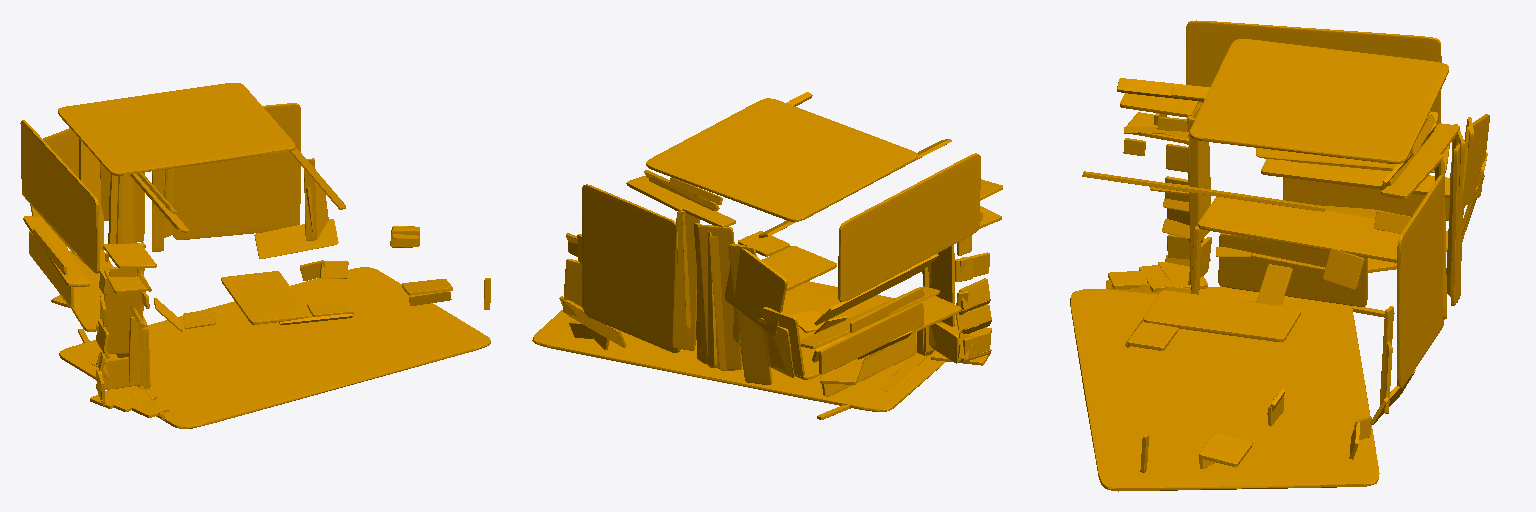
--- Facts derived from the render (not from the file) ---
The picture shows the robot from 3 angles, left to right: view 1: azimuth 30°, elevation 25°; view 2: azimuth 150°, elevation 25°; view 3: azimuth 270°, elevation 25°; orthographic projection.
Robot: scene — 1 links, 0 joints (none); root link scene_link; default pose: every joint at zero.
Visible links, largest first — view 1: scene_link; view 2: scene_link; view 3: scene_link.
Boxes of the visible links, x1,y1,x2,y2 form: scene_link: (20,83,490,428); scene_link: (532,92,1002,419); scene_link: (1070,20,1489,491).
Size in the robot's own frame: 5.14 by 4 by 2.75 metres.
Meshes: 88 distinct files referenced, 88 mesh visuals loaded (88 OBJ).

The robot description file, URDF, robot "scene":
<?xml version='1.0' encoding='utf-8'?>
<robot name="scene"><link name="scene_link"><visual><origin xyz="0.000000 0.000000 0.000000" rpy="0.000000 -0.000000 0.000000" /><geometry><mesh filename="part_000.obj" /></geometry></visual><collision><origin xyz="0.000000 0.000000 0.000000" rpy="0.000000 -0.000000 0.000000" /><geometry><mesh filename="part_000.obj" /></geometry></collision><visual><origin xyz="0.000000 0.000000 0.000000" rpy="0.000000 -0.000000 0.000000" /><geometry><mesh filename="part_001.obj" /></geometry></visual><collision><origin xyz="0.000000 0.000000 0.000000" rpy="0.000000 -0.000000 0.000000" /><geometry><mesh filename="part_001.obj" /></geometry></collision><visual><origin xyz="0.000000 0.000000 0.000000" rpy="0.000000 -0.000000 0.000000" /><geometry><mesh filename="part_002.obj" /></geometry></visual><collision><origin xyz="0.000000 0.000000 0.000000" rpy="0.000000 -0.000000 0.000000" /><geometry><mesh filename="part_002.obj" /></geometry></collision><visual><origin xyz="0.000000 0.000000 0.000000" rpy="0.000000 -0.000000 0.000000" /><geometry><mesh filename="part_003.obj" /></geometry></visual><collision><origin xyz="0.000000 0.000000 0.000000" rpy="0.000000 -0.000000 0.000000" /><geometry><mesh filename="part_003.obj" /></geometry></collision><visual><origin xyz="0.000000 0.000000 0.000000" rpy="0.000000 -0.000000 0.000000" /><geometry><mesh filename="part_004.obj" /></geometry></visual><collision><origin xyz="0.000000 0.000000 0.000000" rpy="0.000000 -0.000000 0.000000" /><geometry><mesh filename="part_004.obj" /></geometry></collision><visual><origin xyz="0.000000 0.000000 0.000000" rpy="0.000000 -0.000000 0.000000" /><geometry><mesh filename="part_005.obj" /></geometry></visual><collision><origin xyz="0.000000 0.000000 0.000000" rpy="0.000000 -0.000000 0.000000" /><geometry><mesh filename="part_005.obj" /></geometry></collision><visual><origin xyz="0.000000 0.000000 0.000000" rpy="0.000000 -0.000000 0.000000" /><geometry><mesh filename="part_006.obj" /></geometry></visual><collision><origin xyz="0.000000 0.000000 0.000000" rpy="0.000000 -0.000000 0.000000" /><geometry><mesh filename="part_006.obj" /></geometry></collision><visual><origin xyz="0.000000 0.000000 0.000000" rpy="0.000000 -0.000000 0.000000" /><geometry><mesh filename="part_007.obj" /></geometry></visual><collision><origin xyz="0.000000 0.000000 0.000000" rpy="0.000000 -0.000000 0.000000" /><geometry><mesh filename="part_007.obj" /></geometry></collision><visual><origin xyz="0.000000 0.000000 0.000000" rpy="0.000000 -0.000000 0.000000" /><geometry><mesh filename="part_008.obj" /></geometry></visual><collision><origin xyz="0.000000 0.000000 0.000000" rpy="0.000000 -0.000000 0.000000" /><geometry><mesh filename="part_008.obj" /></geometry></collision><visual><origin xyz="0.000000 0.000000 0.000000" rpy="0.000000 -0.000000 0.000000" /><geometry><mesh filename="part_009.obj" /></geometry></visual><collision><origin xyz="0.000000 0.000000 0.000000" rpy="0.000000 -0.000000 0.000000" /><geometry><mesh filename="part_009.obj" /></geometry></collision><visual><origin xyz="0.000000 0.000000 0.000000" rpy="0.000000 -0.000000 0.000000" /><geometry><mesh filename="part_010.obj" /></geometry></visual><collision><origin xyz="0.000000 0.000000 0.000000" rpy="0.000000 -0.000000 0.000000" /><geometry><mesh filename="part_010.obj" /></geometry></collision><visual><origin xyz="0.000000 0.000000 0.000000" rpy="0.000000 -0.000000 0.000000" /><geometry><mesh filename="part_011.obj" /></geometry></visual><collision><origin xyz="0.000000 0.000000 0.000000" rpy="0.000000 -0.000000 0.000000" /><geometry><mesh filename="part_011.obj" /></geometry></collision><visual><origin xyz="0.000000 0.000000 0.000000" rpy="0.000000 -0.000000 0.000000" /><geometry><mesh filename="part_012.obj" /></geometry></visual><collision><origin xyz="0.000000 0.000000 0.000000" rpy="0.000000 -0.000000 0.000000" /><geometry><mesh filename="part_012.obj" /></geometry></collision><visual><origin xyz="0.000000 0.000000 0.000000" rpy="0.000000 -0.000000 0.000000" /><geometry><mesh filename="part_013.obj" /></geometry></visual><collision><origin xyz="0.000000 0.000000 0.000000" rpy="0.000000 -0.000000 0.000000" /><geometry><mesh filename="part_013.obj" /></geometry></collision><visual><origin xyz="0.000000 0.000000 0.000000" rpy="0.000000 -0.000000 0.000000" /><geometry><mesh filename="part_014.obj" /></geometry></visual><collision><origin xyz="0.000000 0.000000 0.000000" rpy="0.000000 -0.000000 0.000000" /><geometry><mesh filename="part_014.obj" /></geometry></collision><visual><origin xyz="0.000000 0.000000 0.000000" rpy="0.000000 -0.000000 0.000000" /><geometry><mesh filename="part_015.obj" /></geometry></visual><collision><origin xyz="0.000000 0.000000 0.000000" rpy="0.000000 -0.000000 0.000000" /><geometry><mesh filename="part_015.obj" /></geometry></collision><visual><origin xyz="0.000000 0.000000 0.000000" rpy="0.000000 -0.000000 0.000000" /><geometry><mesh filename="part_016.obj" /></geometry></visual><collision><origin xyz="0.000000 0.000000 0.000000" rpy="0.000000 -0.000000 0.000000" /><geometry><mesh filename="part_016.obj" /></geometry></collision><visual><origin xyz="0.000000 0.000000 0.000000" rpy="0.000000 -0.000000 0.000000" /><geometry><mesh filename="part_017.obj" /></geometry></visual><collision><origin xyz="0.000000 0.000000 0.000000" rpy="0.000000 -0.000000 0.000000" /><geometry><mesh filename="part_017.obj" /></geometry></collision><visual><origin xyz="0.000000 0.000000 0.000000" rpy="0.000000 -0.000000 0.000000" /><geometry><mesh filename="part_018.obj" /></geometry></visual><collision><origin xyz="0.000000 0.000000 0.000000" rpy="0.000000 -0.000000 0.000000" /><geometry><mesh filename="part_018.obj" /></geometry></collision><visual><origin xyz="0.000000 0.000000 0.000000" rpy="0.000000 -0.000000 0.000000" /><geometry><mesh filename="part_019.obj" /></geometry></visual><collision><origin xyz="0.000000 0.000000 0.000000" rpy="0.000000 -0.000000 0.000000" /><geometry><mesh filename="part_019.obj" /></geometry></collision><visual><origin xyz="0.000000 0.000000 0.000000" rpy="0.000000 -0.000000 0.000000" /><geometry><mesh filename="part_020.obj" /></geometry></visual><collision><origin xyz="0.000000 0.000000 0.000000" rpy="0.000000 -0.000000 0.000000" /><geometry><mesh filename="part_020.obj" /></geometry></collision><visual><origin xyz="0.000000 0.000000 0.000000" rpy="0.000000 -0.000000 0.000000" /><geometry><mesh filename="part_021.obj" /></geometry></visual><collision><origin xyz="0.000000 0.000000 0.000000" rpy="0.000000 -0.000000 0.000000" /><geometry><mesh filename="part_021.obj" /></geometry></collision><visual><origin xyz="0.000000 0.000000 0.000000" rpy="0.000000 -0.000000 0.000000" /><geometry><mesh filename="part_022.obj" /></geometry></visual><collision><origin xyz="0.000000 0.000000 0.000000" rpy="0.000000 -0.000000 0.000000" /><geometry><mesh filename="part_022.obj" /></geometry></collision><visual><origin xyz="0.000000 0.000000 0.000000" rpy="0.000000 -0.000000 0.000000" /><geometry><mesh filename="part_023.obj" /></geometry></visual><collision><origin xyz="0.000000 0.000000 0.000000" rpy="0.000000 -0.000000 0.000000" /><geometry><mesh filename="part_023.obj" /></geometry></collision><visual><origin xyz="0.000000 0.000000 0.000000" rpy="0.000000 -0.000000 0.000000" /><geometry><mesh filename="part_024.obj" /></geometry></visual><collision><origin xyz="0.000000 0.000000 0.000000" rpy="0.000000 -0.000000 0.000000" /><geometry><mesh filename="part_024.obj" /></geometry></collision><visual><origin xyz="0.000000 0.000000 0.000000" rpy="0.000000 -0.000000 0.000000" /><geometry><mesh filename="part_025.obj" /></geometry></visual><collision><origin xyz="0.000000 0.000000 0.000000" rpy="0.000000 -0.000000 0.000000" /><geometry><mesh filename="part_025.obj" /></geometry></collision><visual><origin xyz="0.000000 0.000000 0.000000" rpy="0.000000 -0.000000 0.000000" /><geometry><mesh filename="part_026.obj" /></geometry></visual><collision><origin xyz="0.000000 0.000000 0.000000" rpy="0.000000 -0.000000 0.000000" /><geometry><mesh filename="part_026.obj" /></geometry></collision><visual><origin xyz="0.000000 0.000000 0.000000" rpy="0.000000 -0.000000 0.000000" /><geometry><mesh filename="part_027.obj" /></geometry></visual><collision><origin xyz="0.000000 0.000000 0.000000" rpy="0.000000 -0.000000 0.000000" /><geometry><mesh filename="part_027.obj" /></geometry></collision><visual><origin xyz="0.000000 0.000000 0.000000" rpy="0.000000 -0.000000 0.000000" /><geometry><mesh filename="part_028.obj" /></geometry></visual><collision><origin xyz="0.000000 0.000000 0.000000" rpy="0.000000 -0.000000 0.000000" /><geometry><mesh filename="part_028.obj" /></geometry></collision><visual><origin xyz="0.000000 0.000000 0.000000" rpy="0.000000 -0.000000 0.000000" /><geometry><mesh filename="part_029.obj" /></geometry></visual><collision><origin xyz="0.000000 0.000000 0.000000" rpy="0.000000 -0.000000 0.000000" /><geometry><mesh filename="part_029.obj" /></geometry></collision><visual><origin xyz="0.000000 0.000000 0.000000" rpy="0.000000 -0.000000 0.000000" /><geometry><mesh filename="part_030.obj" /></geometry></visual><collision><origin xyz="0.000000 0.000000 0.000000" rpy="0.000000 -0.000000 0.000000" /><geometry><mesh filename="part_030.obj" /></geometry></collision><visual><origin xyz="0.000000 0.000000 0.000000" rpy="0.000000 -0.000000 0.000000" /><geometry><mesh filename="part_031.obj" /></geometry></visual><collision><origin xyz="0.000000 0.000000 0.000000" rpy="0.000000 -0.000000 0.000000" /><geometry><mesh filename="part_031.obj" /></geometry></collision><visual><origin xyz="0.000000 0.000000 0.000000" rpy="0.000000 -0.000000 0.000000" /><geometry><mesh filename="part_032.obj" /></geometry></visual><collision><origin xyz="0.000000 0.000000 0.000000" rpy="0.000000 -0.000000 0.000000" /><geometry><mesh filename="part_032.obj" /></geometry></collision><visual><origin xyz="0.000000 0.000000 0.000000" rpy="0.000000 -0.000000 0.000000" /><geometry><mesh filename="part_033.obj" /></geometry></visual><collision><origin xyz="0.000000 0.000000 0.000000" rpy="0.000000 -0.000000 0.000000" /><geometry><mesh filename="part_033.obj" /></geometry></collision><visual><origin xyz="0.000000 0.000000 0.000000" rpy="0.000000 -0.000000 0.000000" /><geometry><mesh filename="part_034.obj" /></geometry></visual><collision><origin xyz="0.000000 0.000000 0.000000" rpy="0.000000 -0.000000 0.000000" /><geometry><mesh filename="part_034.obj" /></geometry></collision><visual><origin xyz="0.000000 0.000000 0.000000" rpy="0.000000 -0.000000 0.000000" /><geometry><mesh filename="part_035.obj" /></geometry></visual><collision><origin xyz="0.000000 0.000000 0.000000" rpy="0.000000 -0.000000 0.000000" /><geometry><mesh filename="part_035.obj" /></geometry></collision><visual><origin xyz="0.000000 0.000000 0.000000" rpy="0.000000 -0.000000 0.000000" /><geometry><mesh filename="part_036.obj" /></geometry></visual><collision><origin xyz="0.000000 0.000000 0.000000" rpy="0.000000 -0.000000 0.000000" /><geometry><mesh filename="part_036.obj" /></geometry></collision><visual><origin xyz="0.000000 0.000000 0.000000" rpy="0.000000 -0.000000 0.000000" /><geometry><mesh filename="part_037.obj" /></geometry></visual><collision><origin xyz="0.000000 0.000000 0.000000" rpy="0.000000 -0.000000 0.000000" /><geometry><mesh filename="part_037.obj" /></geometry></collision><visual><origin xyz="0.000000 0.000000 0.000000" rpy="0.000000 -0.000000 0.000000" /><geometry><mesh filename="part_038.obj" /></geometry></visual><collision><origin xyz="0.000000 0.000000 0.000000" rpy="0.000000 -0.000000 0.000000" /><geometry><mesh filename="part_038.obj" /></geometry></collision><visual><origin xyz="0.000000 0.000000 0.000000" rpy="0.000000 -0.000000 0.000000" /><geometry><mesh filename="part_039.obj" /></geometry></visual><collision><origin xyz="0.000000 0.000000 0.000000" rpy="0.000000 -0.000000 0.000000" /><geometry><mesh filename="part_039.obj" /></geometry></collision><visual><origin xyz="0.000000 0.000000 0.000000" rpy="0.000000 -0.000000 0.000000" /><geometry><mesh filename="part_040.obj" /></geometry></visual><collision><origin xyz="0.000000 0.000000 0.000000" rpy="0.000000 -0.000000 0.000000" /><geometry><mesh filename="part_040.obj" /></geometry></collision><visual><origin xyz="0.000000 0.000000 0.000000" rpy="0.000000 -0.000000 0.000000" /><geometry><mesh filename="part_041.obj" /></geometry></visual><collision><origin xyz="0.000000 0.000000 0.000000" rpy="0.000000 -0.000000 0.000000" /><geometry><mesh filename="part_041.obj" /></geometry></collision><visual><origin xyz="0.000000 0.000000 0.000000" rpy="0.000000 -0.000000 0.000000" /><geometry><mesh filename="part_042.obj" /></geometry></visual><collision><origin xyz="0.000000 0.000000 0.000000" rpy="0.000000 -0.000000 0.000000" /><geometry><mesh filename="part_042.obj" /></geometry></collision><visual><origin xyz="0.000000 0.000000 0.000000" rpy="0.000000 -0.000000 0.000000" /><geometry><mesh filename="part_043.obj" /></geometry></visual><collision><origin xyz="0.000000 0.000000 0.000000" rpy="0.000000 -0.000000 0.000000" /><geometry><mesh filename="part_043.obj" /></geometry></collision><visual><origin xyz="0.000000 0.000000 0.000000" rpy="0.000000 -0.000000 0.000000" /><geometry><mesh filename="part_044.obj" /></geometry></visual><collision><origin xyz="0.000000 0.000000 0.000000" rpy="0.000000 -0.000000 0.000000" /><geometry><mesh filename="part_044.obj" /></geometry></collision><visual><origin xyz="0.000000 0.000000 0.000000" rpy="0.000000 -0.000000 0.000000" /><geometry><mesh filename="part_045.obj" /></geometry></visual><collision><origin xyz="0.000000 0.000000 0.000000" rpy="0.000000 -0.000000 0.000000" /><geometry><mesh filename="part_045.obj" /></geometry></collision><visual><origin xyz="0.000000 0.000000 0.000000" rpy="0.000000 -0.000000 0.000000" /><geometry><mesh filename="part_046.obj" /></geometry></visual><collision><origin xyz="0.000000 0.000000 0.000000" rpy="0.000000 -0.000000 0.000000" /><geometry><mesh filename="part_046.obj" /></geometry></collision><visual><origin xyz="0.000000 0.000000 0.000000" rpy="0.000000 -0.000000 0.000000" /><geometry><mesh filename="part_047.obj" /></geometry></visual><collision><origin xyz="0.000000 0.000000 0.000000" rpy="0.000000 -0.000000 0.000000" /><geometry><mesh filename="part_047.obj" /></geometry></collision><visual><origin xyz="0.000000 0.000000 0.000000" rpy="0.000000 -0.000000 0.000000" /><geometry><mesh filename="part_048.obj" /></geometry></visual><collision><origin xyz="0.000000 0.000000 0.000000" rpy="0.000000 -0.000000 0.000000" /><geometry><mesh filename="part_048.obj" /></geometry></collision><visual><origin xyz="0.000000 0.000000 0.000000" rpy="0.000000 -0.000000 0.000000" /><geometry><mesh filename="part_049.obj" /></geometry></visual><collision><origin xyz="0.000000 0.000000 0.000000" rpy="0.000000 -0.000000 0.000000" /><geometry><mesh filename="part_049.obj" /></geometry></collision><visual><origin xyz="0.000000 0.000000 0.000000" rpy="0.000000 -0.000000 0.000000" /><geometry><mesh filename="part_050.obj" /></geometry></visual><collision><origin xyz="0.000000 0.000000 0.000000" rpy="0.000000 -0.000000 0.000000" /><geometry><mesh filename="part_050.obj" /></geometry></collision><visual><origin xyz="0.000000 0.000000 0.000000" rpy="0.000000 -0.000000 0.000000" /><geometry><mesh filename="part_051.obj" /></geometry></visual><collision><origin xyz="0.000000 0.000000 0.000000" rpy="0.000000 -0.000000 0.000000" /><geometry><mesh filename="part_051.obj" /></geometry></collision><visual><origin xyz="0.000000 0.000000 0.000000" rpy="0.000000 -0.000000 0.000000" /><geometry><mesh filename="part_052.obj" /></geometry></visual><collision><origin xyz="0.000000 0.000000 0.000000" rpy="0.000000 -0.000000 0.000000" /><geometry><mesh filename="part_052.obj" /></geometry></collision><visual><origin xyz="0.000000 0.000000 0.000000" rpy="0.000000 -0.000000 0.000000" /><geometry><mesh filename="part_053.obj" /></geometry></visual><collision><origin xyz="0.000000 0.000000 0.000000" rpy="0.000000 -0.000000 0.000000" /><geometry><mesh filename="part_053.obj" /></geometry></collision><visual><origin xyz="0.000000 0.000000 0.000000" rpy="0.000000 -0.000000 0.000000" /><geometry><mesh filename="part_054.obj" /></geometry></visual><collision><origin xyz="0.000000 0.000000 0.000000" rpy="0.000000 -0.000000 0.000000" /><geometry><mesh filename="part_054.obj" /></geometry></collision><visual><origin xyz="0.000000 0.000000 0.000000" rpy="0.000000 -0.000000 0.000000" /><geometry><mesh filename="part_055.obj" /></geometry></visual><collision><origin xyz="0.000000 0.000000 0.000000" rpy="0.000000 -0.000000 0.000000" /><geometry><mesh filename="part_055.obj" /></geometry></collision><visual><origin xyz="0.000000 0.000000 0.000000" rpy="0.000000 -0.000000 0.000000" /><geometry><mesh filename="part_056.obj" /></geometry></visual><collision><origin xyz="0.000000 0.000000 0.000000" rpy="0.000000 -0.000000 0.000000" /><geometry><mesh filename="part_056.obj" /></geometry></collision><visual><origin xyz="0.000000 0.000000 0.000000" rpy="0.000000 -0.000000 0.000000" /><geometry><mesh filename="part_057.obj" /></geometry></visual><collision><origin xyz="0.000000 0.000000 0.000000" rpy="0.000000 -0.000000 0.000000" /><geometry><mesh filename="part_057.obj" /></geometry></collision><visual><origin xyz="0.000000 0.000000 0.000000" rpy="0.000000 -0.000000 0.000000" /><geometry><mesh filename="part_058.obj" /></geometry></visual><collision><origin xyz="0.000000 0.000000 0.000000" rpy="0.000000 -0.000000 0.000000" /><geometry><mesh filename="part_058.obj" /></geometry></collision><visual><origin xyz="0.000000 0.000000 0.000000" rpy="0.000000 -0.000000 0.000000" /><geometry><mesh filename="part_059.obj" /></geometry></visual><collision><origin xyz="0.000000 0.000000 0.000000" rpy="0.000000 -0.000000 0.000000" /><geometry><mesh filename="part_059.obj" /></geometry></collision><visual><origin xyz="0.000000 0.000000 0.000000" rpy="0.000000 -0.000000 0.000000" /><geometry><mesh filename="part_060.obj" /></geometry></visual><collision><origin xyz="0.000000 0.000000 0.000000" rpy="0.000000 -0.000000 0.000000" /><geometry><mesh filename="part_060.obj" /></geometry></collision><visual><origin xyz="0.000000 0.000000 0.000000" rpy="0.000000 -0.000000 0.000000" /><geometry><mesh filename="part_061.obj" /></geometry></visual><collision><origin xyz="0.000000 0.000000 0.000000" rpy="0.000000 -0.000000 0.000000" /><geometry><mesh filename="part_061.obj" /></geometry></collision><visual><origin xyz="0.000000 0.000000 0.000000" rpy="0.000000 -0.000000 0.000000" /><geometry><mesh filename="part_062.obj" /></geometry></visual><collision><origin xyz="0.000000 0.000000 0.000000" rpy="0.000000 -0.000000 0.000000" /><geometry><mesh filename="part_062.obj" /></geometry></collision><visual><origin xyz="0.000000 0.000000 0.000000" rpy="0.000000 -0.000000 0.000000" /><geometry><mesh filename="part_063.obj" /></geometry></visual><collision><origin xyz="0.000000 0.000000 0.000000" rpy="0.000000 -0.000000 0.000000" /><geometry><mesh filename="part_063.obj" /></geometry></collision><visual><origin xyz="0.000000 0.000000 0.000000" rpy="0.000000 -0.000000 0.000000" /><geometry><mesh filename="part_064.obj" /></geometry></visual><collision><origin xyz="0.000000 0.000000 0.000000" rpy="0.000000 -0.000000 0.000000" /><geometry><mesh filename="part_064.obj" /></geometry></collision><visual><origin xyz="0.000000 0.000000 0.000000" rpy="0.000000 -0.000000 0.000000" /><geometry><mesh filename="part_065.obj" /></geometry></visual><collision><origin xyz="0.000000 0.000000 0.000000" rpy="0.000000 -0.000000 0.000000" /><geometry><mesh filename="part_065.obj" /></geometry></collision><visual><origin xyz="0.000000 0.000000 0.000000" rpy="0.000000 -0.000000 0.000000" /><geometry><mesh filename="part_066.obj" /></geometry></visual><collision><origin xyz="0.000000 0.000000 0.000000" rpy="0.000000 -0.000000 0.000000" /><geometry><mesh filename="part_066.obj" /></geometry></collision><visual><origin xyz="0.000000 0.000000 0.000000" rpy="0.000000 -0.000000 0.000000" /><geometry><mesh filename="part_067.obj" /></geometry></visual><collision><origin xyz="0.000000 0.000000 0.000000" rpy="0.000000 -0.000000 0.000000" /><geometry><mesh filename="part_067.obj" /></geometry></collision><visual><origin xyz="0.000000 0.000000 0.000000" rpy="0.000000 -0.000000 0.000000" /><geometry><mesh filename="part_068.obj" /></geometry></visual><collision><origin xyz="0.000000 0.000000 0.000000" rpy="0.000000 -0.000000 0.000000" /><geometry><mesh filename="part_068.obj" /></geometry></collision><visual><origin xyz="0.000000 0.000000 0.000000" rpy="0.000000 -0.000000 0.000000" /><geometry><mesh filename="part_069.obj" /></geometry></visual><collision><origin xyz="0.000000 0.000000 0.000000" rpy="0.000000 -0.000000 0.000000" /><geometry><mesh filename="part_069.obj" /></geometry></collision><visual><origin xyz="0.000000 0.000000 0.000000" rpy="0.000000 -0.000000 0.000000" /><geometry><mesh filename="part_070.obj" /></geometry></visual><collision><origin xyz="0.000000 0.000000 0.000000" rpy="0.000000 -0.000000 0.000000" /><geometry><mesh filename="part_070.obj" /></geometry></collision><visual><origin xyz="0.000000 0.000000 0.000000" rpy="0.000000 -0.000000 0.000000" /><geometry><mesh filename="part_071.obj" /></geometry></visual><collision><origin xyz="0.000000 0.000000 0.000000" rpy="0.000000 -0.000000 0.000000" /><geometry><mesh filename="part_071.obj" /></geometry></collision><visual><origin xyz="0.000000 0.000000 0.000000" rpy="0.000000 -0.000000 0.000000" /><geometry><mesh filename="part_072.obj" /></geometry></visual><collision><origin xyz="0.000000 0.000000 0.000000" rpy="0.000000 -0.000000 0.000000" /><geometry><mesh filename="part_072.obj" /></geometry></collision><visual><origin xyz="0.000000 0.000000 0.000000" rpy="0.000000 -0.000000 0.000000" /><geometry><mesh filename="part_073.obj" /></geometry></visual><collision><origin xyz="0.000000 0.000000 0.000000" rpy="0.000000 -0.000000 0.000000" /><geometry><mesh filename="part_073.obj" /></geometry></collision><visual><origin xyz="0.000000 0.000000 0.000000" rpy="0.000000 -0.000000 0.000000" /><geometry><mesh filename="part_074.obj" /></geometry></visual><collision><origin xyz="0.000000 0.000000 0.000000" rpy="0.000000 -0.000000 0.000000" /><geometry><mesh filename="part_074.obj" /></geometry></collision><visual><origin xyz="0.000000 0.000000 0.000000" rpy="0.000000 -0.000000 0.000000" /><geometry><mesh filename="part_075.obj" /></geometry></visual><collision><origin xyz="0.000000 0.000000 0.000000" rpy="0.000000 -0.000000 0.000000" /><geometry><mesh filename="part_075.obj" /></geometry></collision><visual><origin xyz="0.000000 0.000000 0.000000" rpy="0.000000 -0.000000 0.000000" /><geometry><mesh filename="part_076.obj" /></geometry></visual><collision><origin xyz="0.000000 0.000000 0.000000" rpy="0.000000 -0.000000 0.000000" /><geometry><mesh filename="part_076.obj" /></geometry></collision><visual><origin xyz="0.000000 0.000000 0.000000" rpy="0.000000 -0.000000 0.000000" /><geometry><mesh filename="part_077.obj" /></geometry></visual><collision><origin xyz="0.000000 0.000000 0.000000" rpy="0.000000 -0.000000 0.000000" /><geometry><mesh filename="part_077.obj" /></geometry></collision><visual><origin xyz="0.000000 0.000000 0.000000" rpy="0.000000 -0.000000 0.000000" /><geometry><mesh filename="part_078.obj" /></geometry></visual><collision><origin xyz="0.000000 0.000000 0.000000" rpy="0.000000 -0.000000 0.000000" /><geometry><mesh filename="part_078.obj" /></geometry></collision><visual><origin xyz="0.000000 0.000000 0.000000" rpy="0.000000 -0.000000 0.000000" /><geometry><mesh filename="part_079.obj" /></geometry></visual><collision><origin xyz="0.000000 0.000000 0.000000" rpy="0.000000 -0.000000 0.000000" /><geometry><mesh filename="part_079.obj" /></geometry></collision><visual><origin xyz="0.000000 0.000000 0.000000" rpy="0.000000 -0.000000 0.000000" /><geometry><mesh filename="part_080.obj" /></geometry></visual><collision><origin xyz="0.000000 0.000000 0.000000" rpy="0.000000 -0.000000 0.000000" /><geometry><mesh filename="part_080.obj" /></geometry></collision><visual><origin xyz="0.000000 0.000000 0.000000" rpy="0.000000 -0.000000 0.000000" /><geometry><mesh filename="part_081.obj" /></geometry></visual><collision><origin xyz="0.000000 0.000000 0.000000" rpy="0.000000 -0.000000 0.000000" /><geometry><mesh filename="part_081.obj" /></geometry></collision><visual><origin xyz="0.000000 0.000000 0.000000" rpy="0.000000 -0.000000 0.000000" /><geometry><mesh filename="part_082.obj" /></geometry></visual><collision><origin xyz="0.000000 0.000000 0.000000" rpy="0.000000 -0.000000 0.000000" /><geometry><mesh filename="part_082.obj" /></geometry></collision><visual><origin xyz="0.000000 0.000000 0.000000" rpy="0.000000 -0.000000 0.000000" /><geometry><mesh filename="part_083.obj" /></geometry></visual><collision><origin xyz="0.000000 0.000000 0.000000" rpy="0.000000 -0.000000 0.000000" /><geometry><mesh filename="part_083.obj" /></geometry></collision><visual><origin xyz="0.000000 0.000000 0.000000" rpy="0.000000 -0.000000 0.000000" /><geometry><mesh filename="part_084.obj" /></geometry></visual><collision><origin xyz="0.000000 0.000000 0.000000" rpy="0.000000 -0.000000 0.000000" /><geometry><mesh filename="part_084.obj" /></geometry></collision><visual><origin xyz="0.000000 0.000000 0.000000" rpy="0.000000 -0.000000 0.000000" /><geometry><mesh filename="part_085.obj" /></geometry></visual><collision><origin xyz="0.000000 0.000000 0.000000" rpy="0.000000 -0.000000 0.000000" /><geometry><mesh filename="part_085.obj" /></geometry></collision><visual><origin xyz="0.000000 0.000000 0.000000" rpy="0.000000 -0.000000 0.000000" /><geometry><mesh filename="part_086.obj" /></geometry></visual><collision><origin xyz="0.000000 0.000000 0.000000" rpy="0.000000 -0.000000 0.000000" /><geometry><mesh filename="part_086.obj" /></geometry></collision><visual><origin xyz="0.000000 0.000000 0.000000" rpy="0.000000 -0.000000 0.000000" /><geometry><mesh filename="part_087.obj" /></geometry></visual><collision><origin xyz="0.000000 0.000000 0.000000" rpy="0.000000 -0.000000 0.000000" /><geometry><mesh filename="part_087.obj" /></geometry></collision></link></robot>
